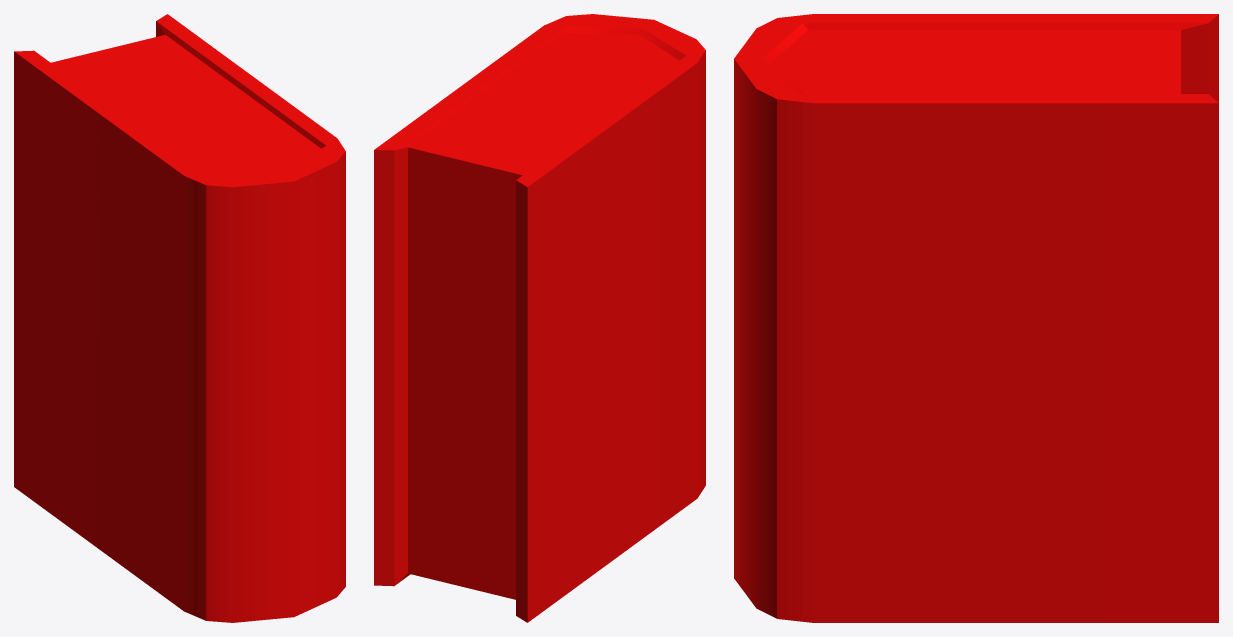
File: Libro_Texturas.fbx
The picture shows the model from 3 angles, left to right: view 1: azimuth 30°, elevation 25°; view 2: azimuth 150°, elevation 25°; view 3: azimuth 270°, elevation 25°; orthographic projection. The views are drawn at different scales.
Visible parts, largest first — view 1: pCube10; view 2: pCube10; view 3: pCube10.
Part boxes in pixels (x1=…): pCube10: x1=14, y1=14, x2=345, y2=622; pCube10: x1=374, y1=14, x2=705, y2=622; pCube10: x1=734, y1=14, x2=1218, y2=622.
Size of the model in its own units: 0.1831 by 0.4968 by 0.4202.
